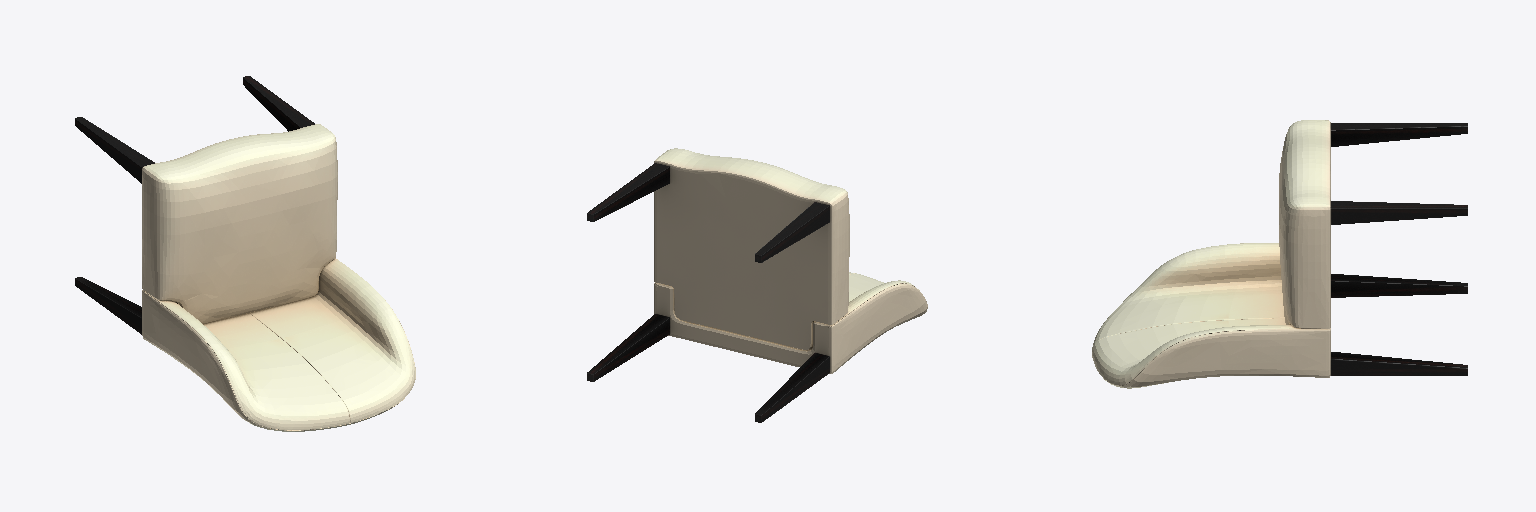
The picture shows the model from 3 angles: view 1: azimuth 30°, elevation 25°; view 2: azimuth 150°, elevation 25°; view 3: azimuth 270°, elevation 25°; orthographic projection.
Bounding box in the file's own units: 0.5707 × 0.6031 × 1.01.
1 materials, 1 textured.